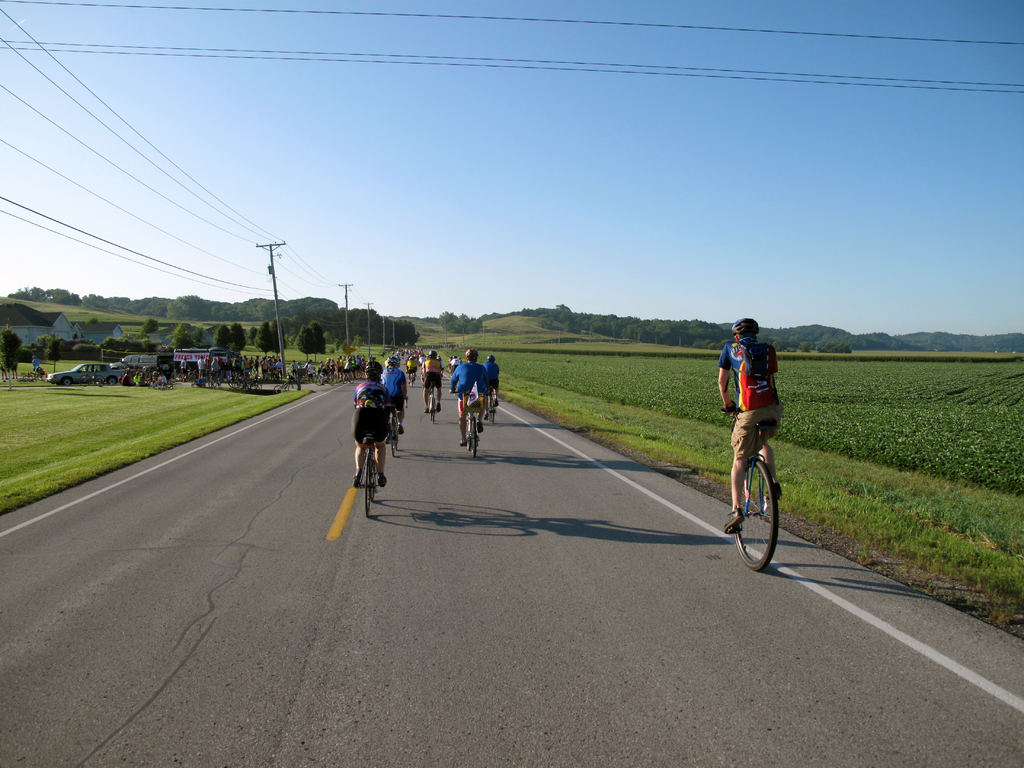Bike_away: (722, 399, 786, 573), (348, 411, 392, 514), (445, 384, 496, 459)
